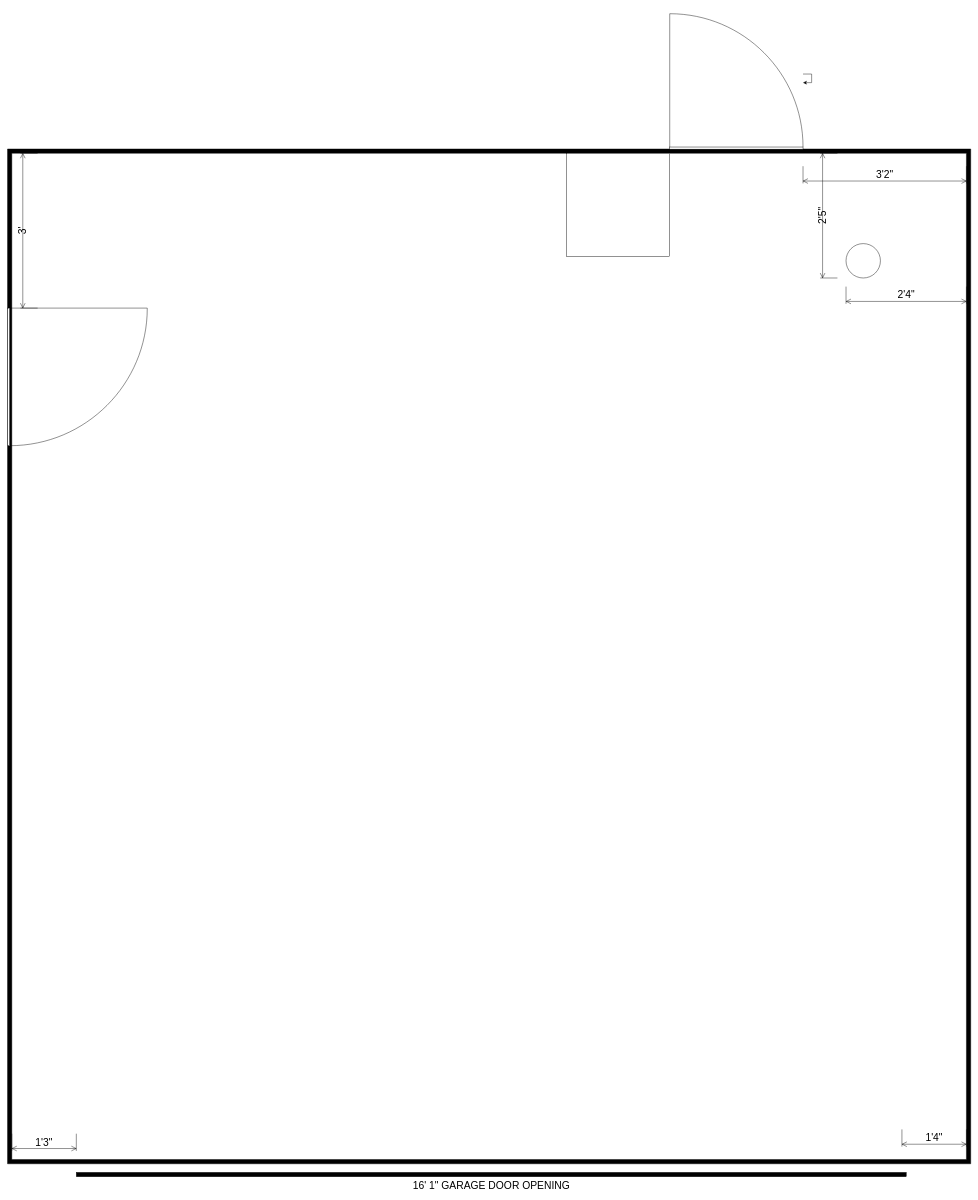
This 978x1200 diagram has some shape labels left out. Here are the shapes that lost their labels. From the top down, the centre of each, then its label:
(736,78): DOOR 2'7"
(618,204): SINK 2' x 2'
(80,377): DOOR 32"
